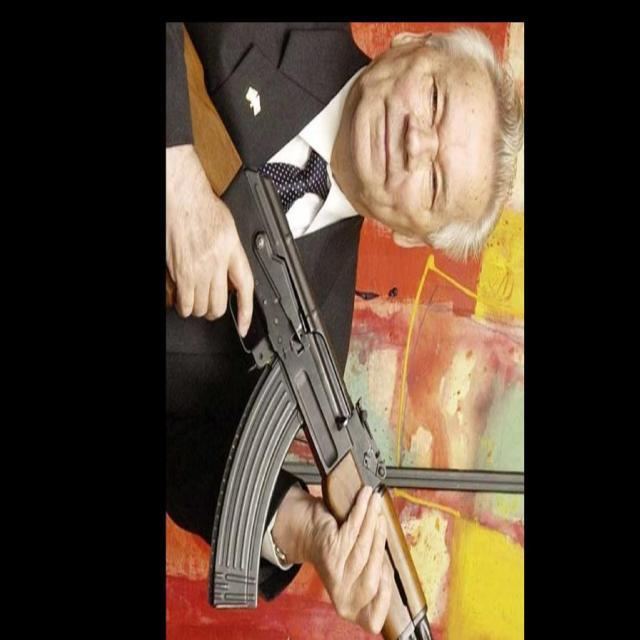weapon: (166, 21, 432, 640)
